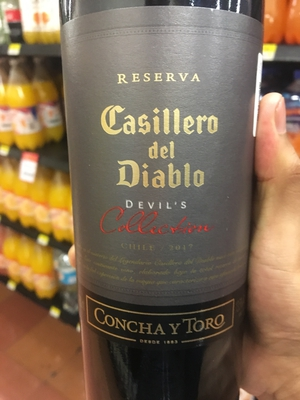casillero del diablo devils collection rojo: (56, 1, 265, 400)
